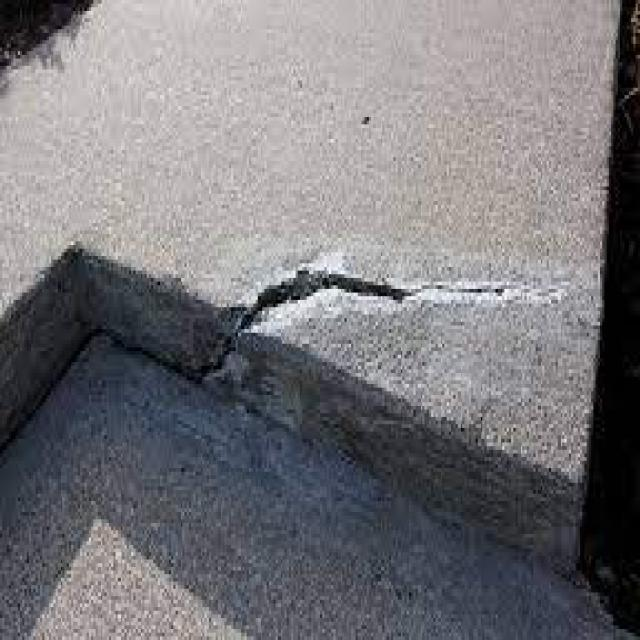Crack: (198, 260, 558, 376)
